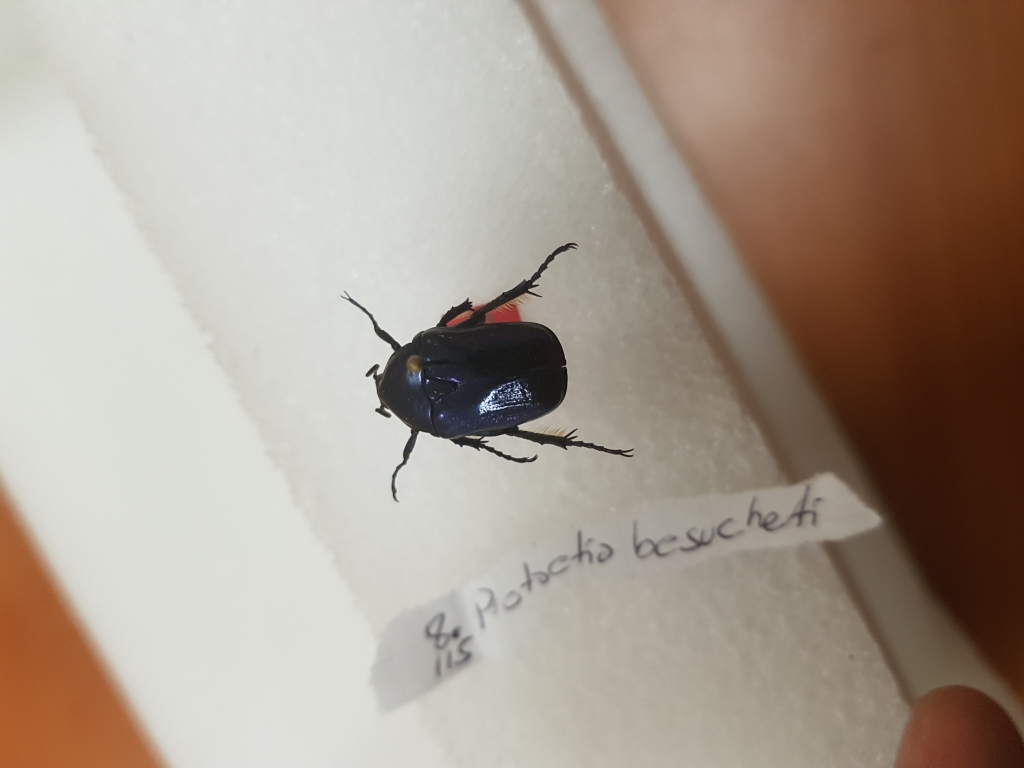Protaetia_besucheti: (327, 230, 643, 505)
